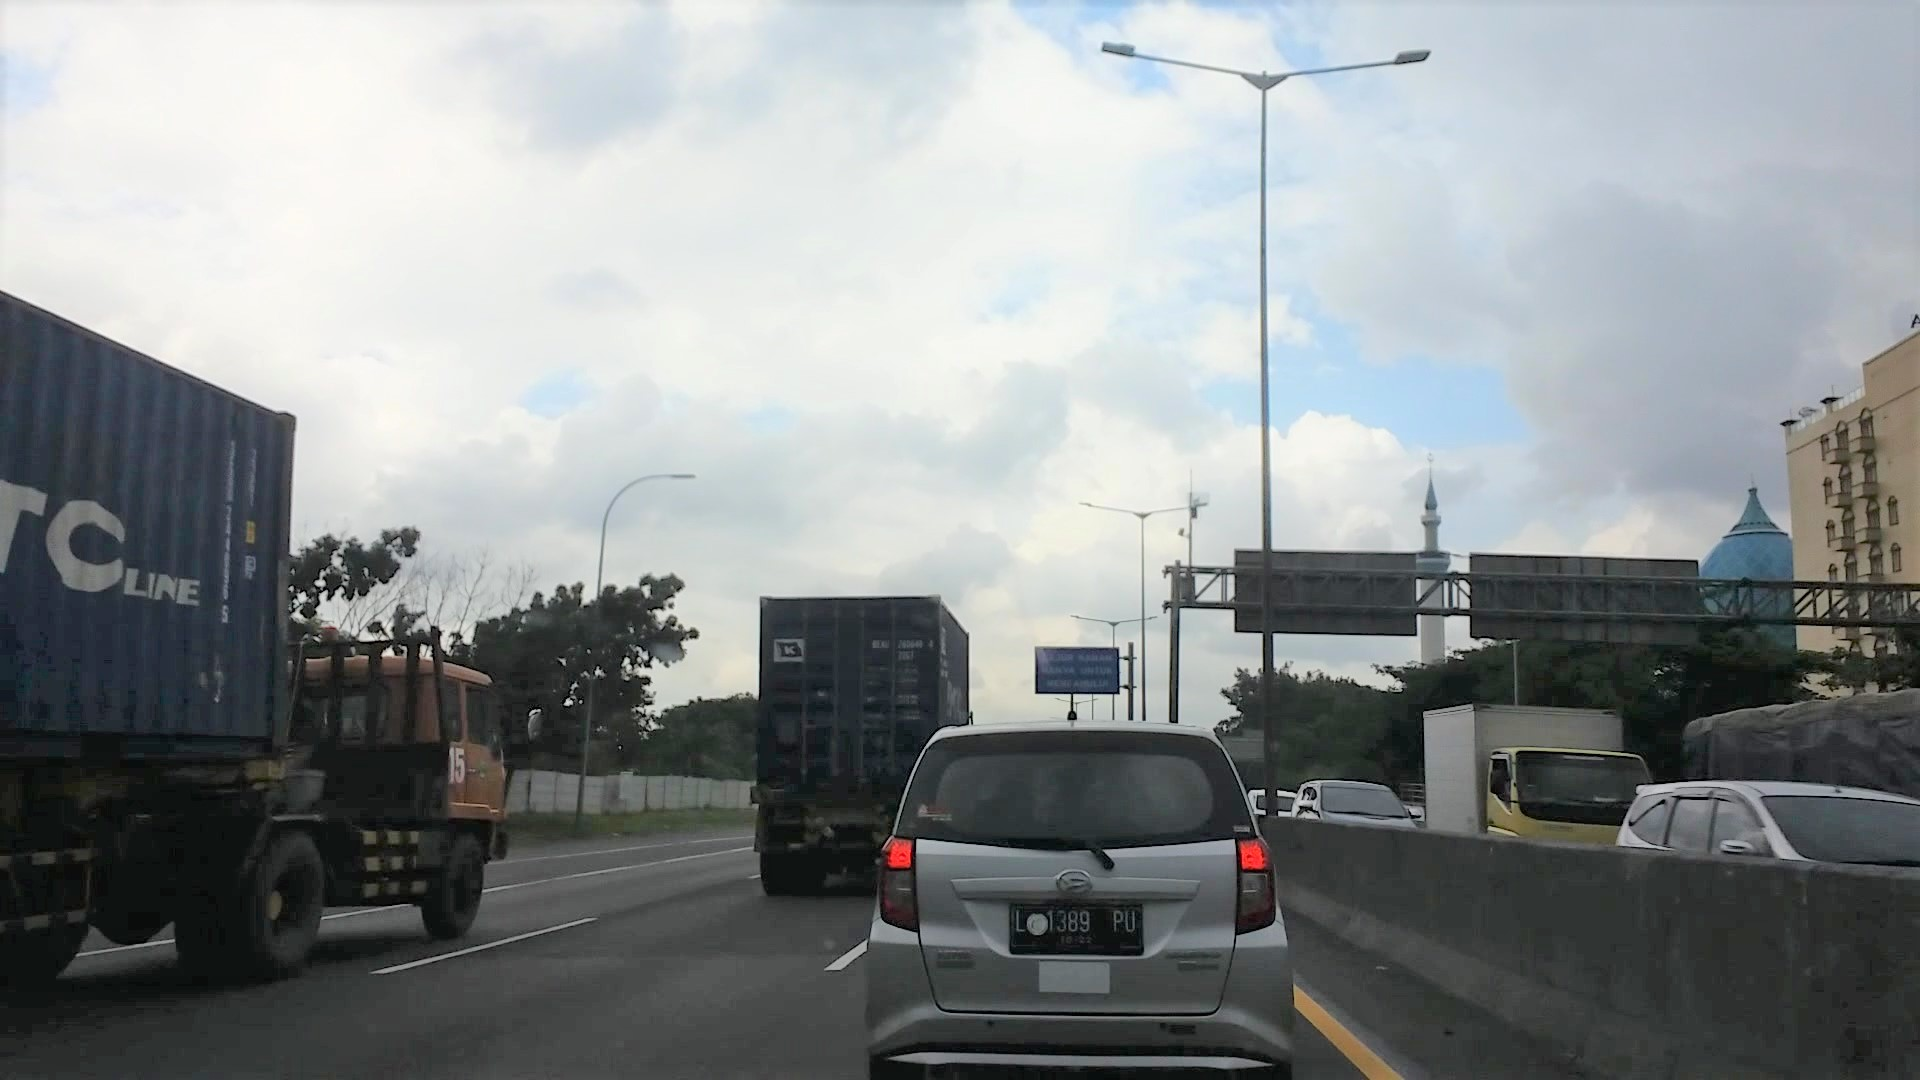plate_positive: (1009, 902, 1143, 956)
